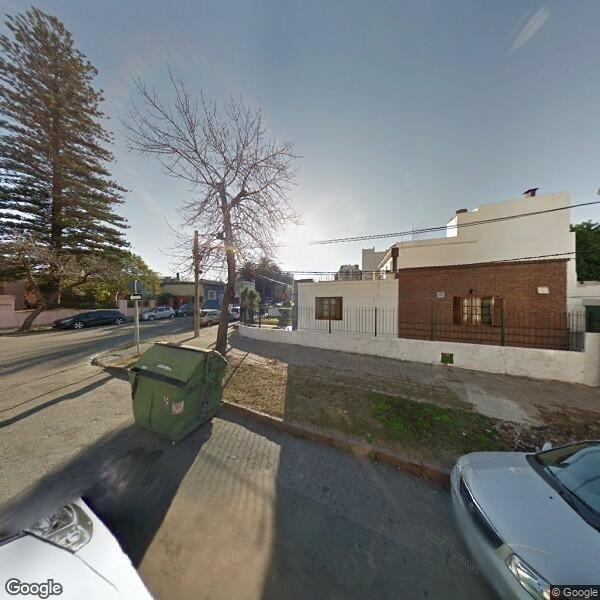Trash: (130, 338, 231, 440)
